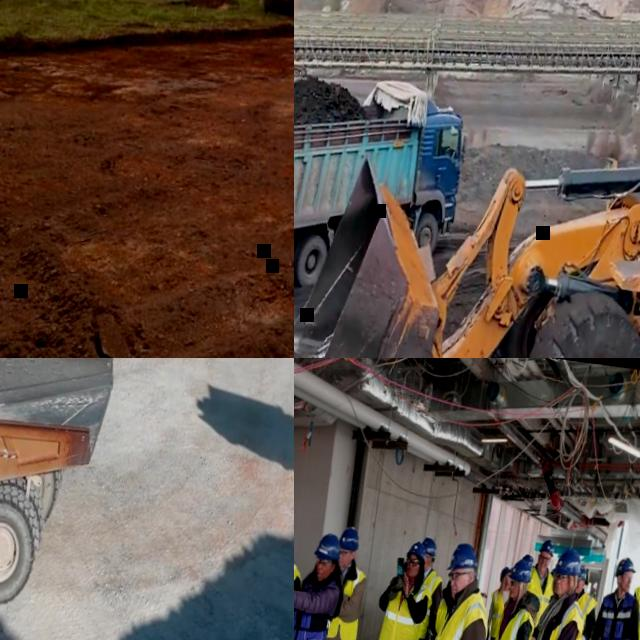Hardhat: (447, 541, 479, 574), (553, 546, 584, 578), (313, 531, 343, 562), (508, 557, 533, 584), (339, 525, 362, 551), (615, 556, 638, 579), (406, 539, 428, 563), (420, 537, 438, 557), (539, 539, 556, 557), (499, 566, 512, 583), (578, 567, 590, 581), (522, 554, 536, 565)
NO-Mask: (554, 583, 568, 597), (451, 583, 463, 599), (316, 569, 328, 582), (405, 567, 417, 578), (620, 584, 631, 594), (538, 563, 548, 573), (338, 559, 348, 568), (510, 590, 519, 599), (575, 585, 583, 594), (507, 579, 511, 585)
Person: (399, 539, 499, 640), (502, 544, 596, 640), (356, 536, 437, 640), (565, 551, 640, 640), (315, 525, 373, 640), (473, 556, 544, 640), (395, 535, 449, 640), (506, 538, 561, 640), (558, 566, 603, 640), (477, 564, 513, 640), (610, 555, 640, 640), (434, 581, 453, 637), (521, 553, 535, 576)
Safety Vest: (421, 585, 495, 640), (375, 576, 434, 640), (294, 572, 344, 640), (324, 564, 367, 640), (534, 598, 589, 640), (593, 589, 636, 640), (523, 568, 556, 630), (415, 570, 444, 638), (487, 606, 536, 640), (569, 592, 600, 640), (485, 589, 507, 640), (627, 582, 640, 640), (294, 558, 304, 631)
vehicle: (294, 0, 640, 358), (294, 52, 473, 323), (0, 358, 134, 629)
